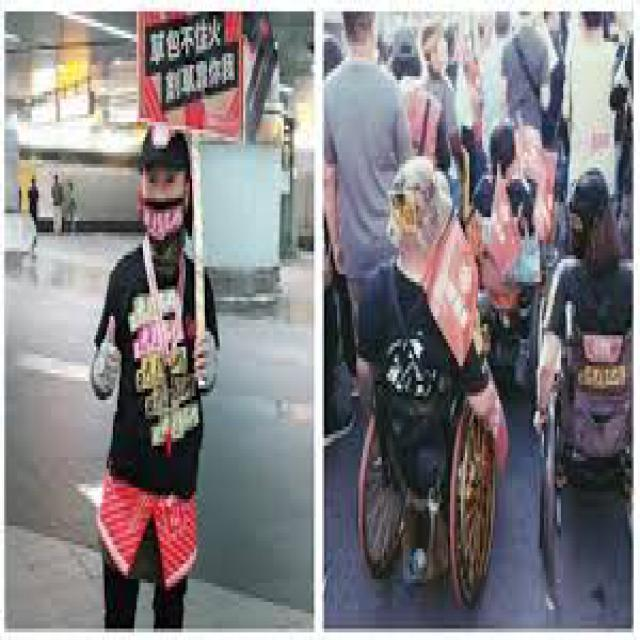wheelchairs: (354, 266, 508, 606), (523, 244, 638, 576)
